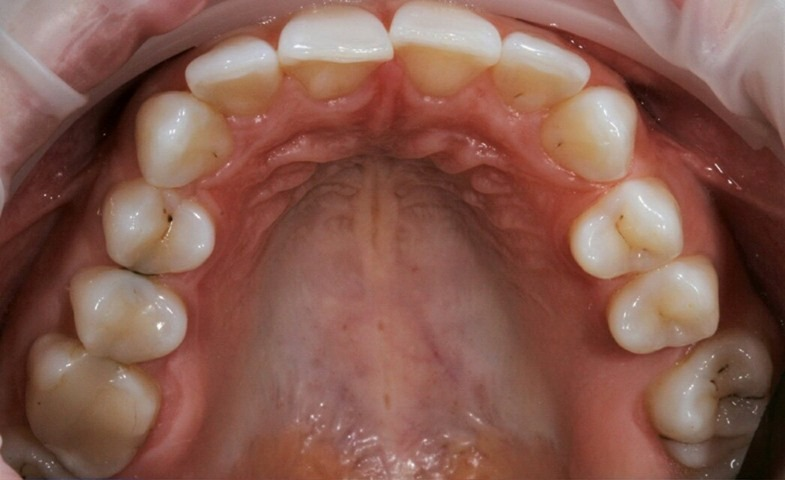UL1BC_healthy: (570, 181, 686, 275)
UL1M_decay: (649, 337, 763, 446)
UL2BC_healthy: (610, 266, 717, 350)
ULCI_healthy: (396, 5, 500, 102)
ULC_healthy: (549, 93, 638, 181)
ULLI_healthy: (502, 32, 585, 112)
UR1BC_decay: (96, 186, 217, 267)
UR1M_healthy: (29, 342, 162, 464)
UR2BC_healthy: (72, 270, 187, 360)
URCI_healthy: (278, 9, 394, 97)
URC_healthy: (135, 91, 233, 183)
URLI_healthy: (189, 43, 281, 118)
